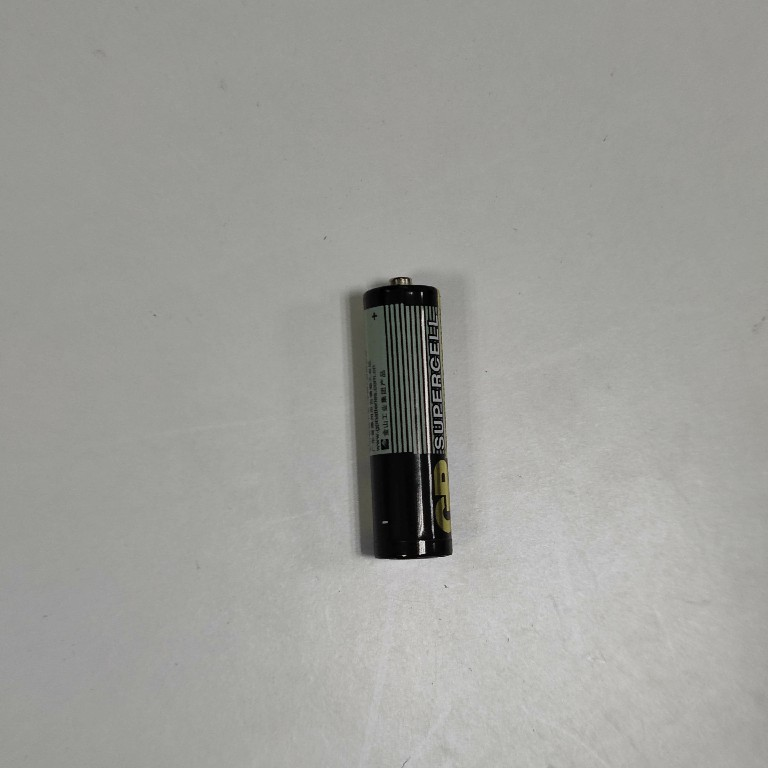charge: (358, 272, 463, 561)
